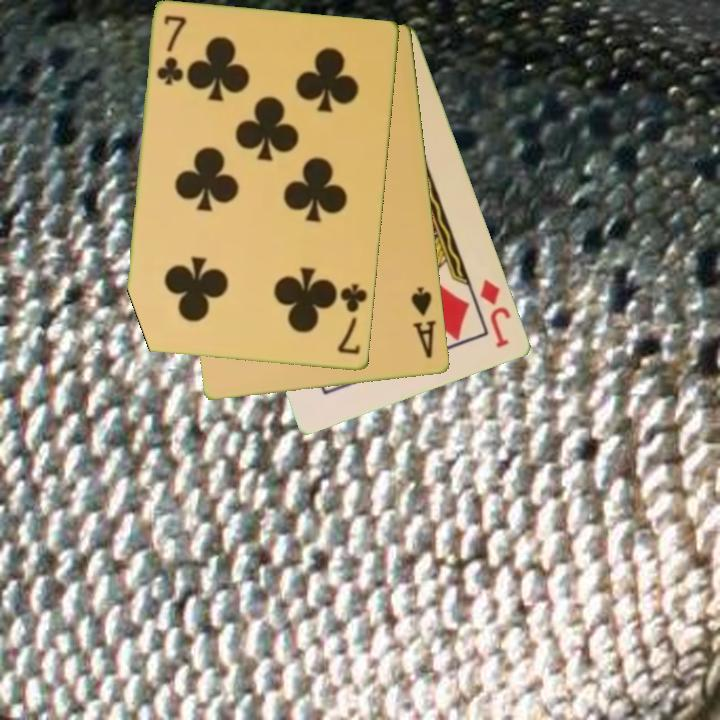7c: (334, 280, 371, 358), (154, 12, 190, 88)
As: (408, 283, 440, 362)
Jd: (477, 276, 515, 351)
